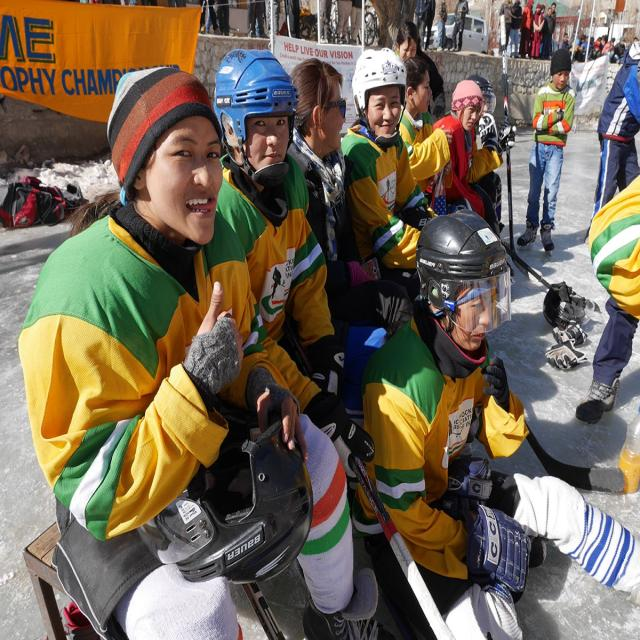body: (16, 64, 387, 639), (357, 208, 639, 640), (191, 45, 384, 542), (281, 54, 417, 416), (29, 1, 418, 57), (573, 168, 640, 428), (583, 13, 639, 256), (511, 47, 576, 253), (398, 54, 456, 214), (462, 76, 518, 238), (468, 78, 518, 242), (398, 57, 454, 202), (394, 20, 447, 121), (565, 24, 640, 65), (413, 0, 436, 54), (449, 0, 469, 53), (498, 0, 515, 57), (519, 0, 535, 60), (530, 2, 546, 60), (508, 0, 522, 59), (542, 6, 556, 61), (436, 0, 449, 53), (550, 2, 557, 58), (540, 3, 546, 20)
